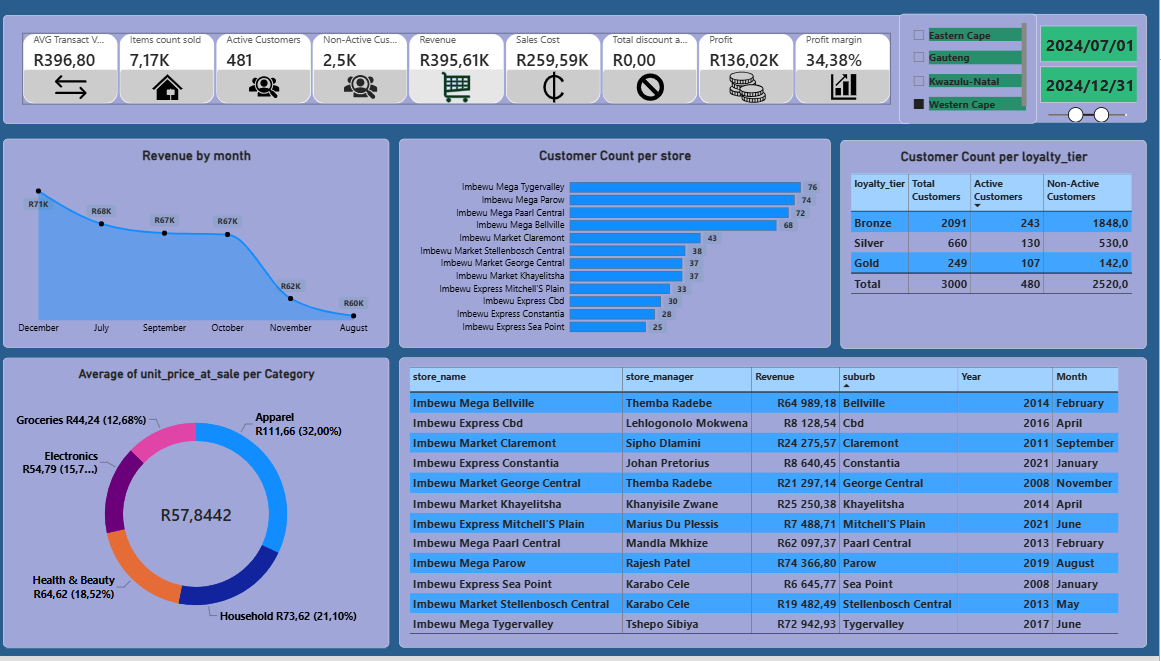

This screenshot's page, from the dashboard's own definition file:
{"tool":"powerbi","page":{"name":"Page 1","canvas":[1920,1080],"ordinal":0},"visuals":[{"type":"cardVisual","fields":{"Data":["_Measures.AVG Transaction Value","_Measures.Items count sold","_Measures.Customer Count","_Measures.Non-Active Customers","_Measures.Revenue","_Measures.Sales Cost","_Measures.Total discount applied","_Measures.Profit","_Measures.Profit margin"]},"box":[15.9,25,1496.4,179.1],"z":0},{"type":"slicer","fields":{"Values":["transactions.transaction_date Hierarchy.transaction_date"]},"box":[1700.2,22.6,199.7,179.1],"z":1},{"type":"donutChart","title":"Average of unit_price_at_sale per Category","fields":{"Category":["products.category"],"Y":["Avg(products.unit_price)"]},"box":[16.5,588.7,636,477.5],"z":2},{"type":"slicer","fields":{"Values":["stores.province"]},"box":[1492.3,22.6,226.4,181.1],"z":3},{"type":"tableEx","fields":{"Values":["stores.store_name","stores.store_manager","_Measures.Revenue","stores.suburb","stores.opened_date.Variation.Date Hierarchy.Year","stores.opened_date.Variation.Date Hierarchy.Month"]},"box":[669,588.7,1230.9,477.5],"z":4},{"type":"areaChart","title":"Revenue by month","fields":{"Category":["transactions.Month Name"],"Y":["_Measures.Revenue"]},"box":[16.5,228.5,636,343.7],"z":5},{"type":"barChart","title":"Customer Count per store","fields":{"Category":["stores.store_name"],"Y":["_Measures.Customer Count"]},"box":[669,228.5,710.1,343.7],"z":6},{"type":"tableEx","title":"Customer Count per loyalty_tier","fields":{"Values":["customers.loyalty_tier","_Measures.Total Customers","_Measures.Active Customer Count","_Measures.Non-Active Customers"]},"box":[1395.5,230.5,504.3,343.7],"z":7}]}

Visuals, with their boxes in screenshot pixels (x1, y1, x2, y2), scaled from the page's 1920x1080 canvas onto the 1161x661 screenshot:
cardVisual - _Measures.AVG Transaction Value x _Measures.Items count sold: box(10, 15, 914, 125)
slicer - transactions.transaction_date Hierarchy.transaction_date: box(1028, 14, 1149, 123)
"Average of unit_price_at_sale per Category" donutChart: box(10, 360, 395, 653)
slicer - stores.province: box(902, 14, 1039, 125)
tableEx - stores.store_name x stores.store_manager: box(405, 360, 1149, 653)
"Revenue by month" areaChart: box(10, 140, 395, 350)
"Customer Count per store" barChart: box(405, 140, 834, 350)
"Customer Count per loyalty_tier" tableEx: box(844, 141, 1149, 351)
